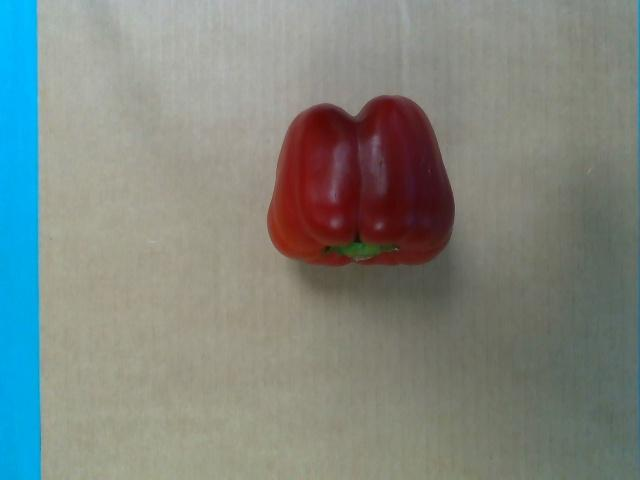red paprika: (268, 93, 456, 271)
